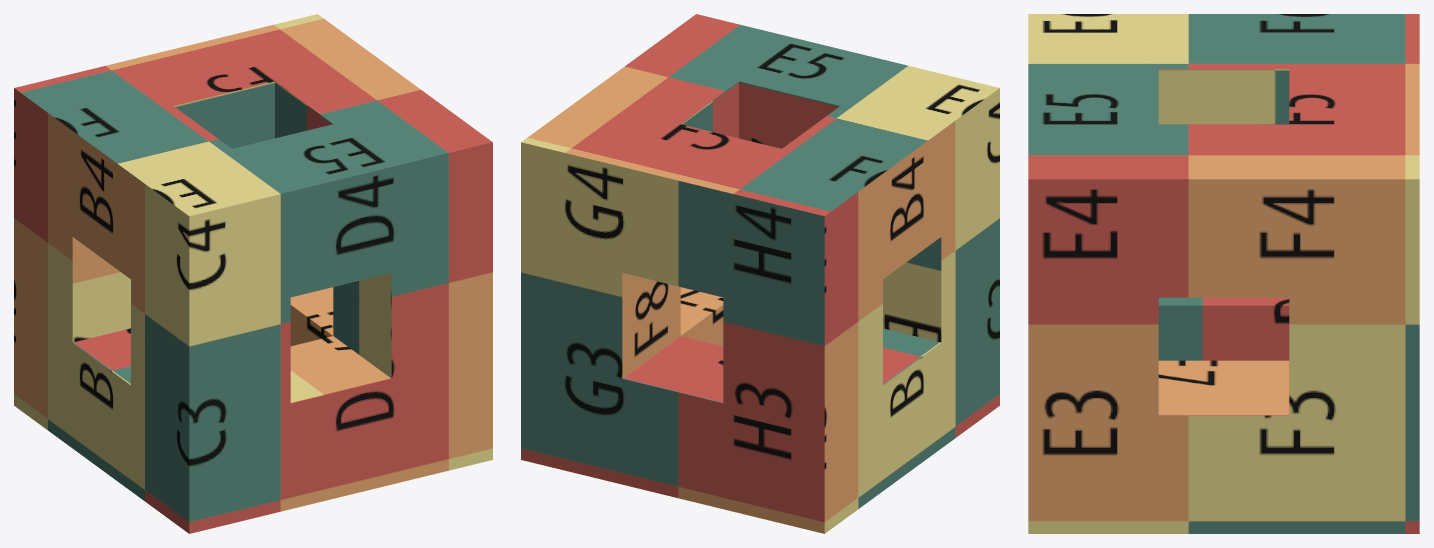
3 renders of one model, left to right at view 1: azimuth 30°, elevation 25°; view 2: azimuth 150°, elevation 25°; view 3: azimuth 270°, elevation 25°, orthographic. The views are drawn at different scales.
Parts seen in each view (by area): view 1: Cube; view 2: Cube; view 3: Cube.
Boxes of the visible parts, <box> form: Cube: <box>14,14,492,533</box>; Cube: <box>521,14,999,533</box>; Cube: <box>1028,14,1419,533</box>.
Size of the model in its own units: 2 by 2 by 2.
Materials: 1 (1 with a texture image).
